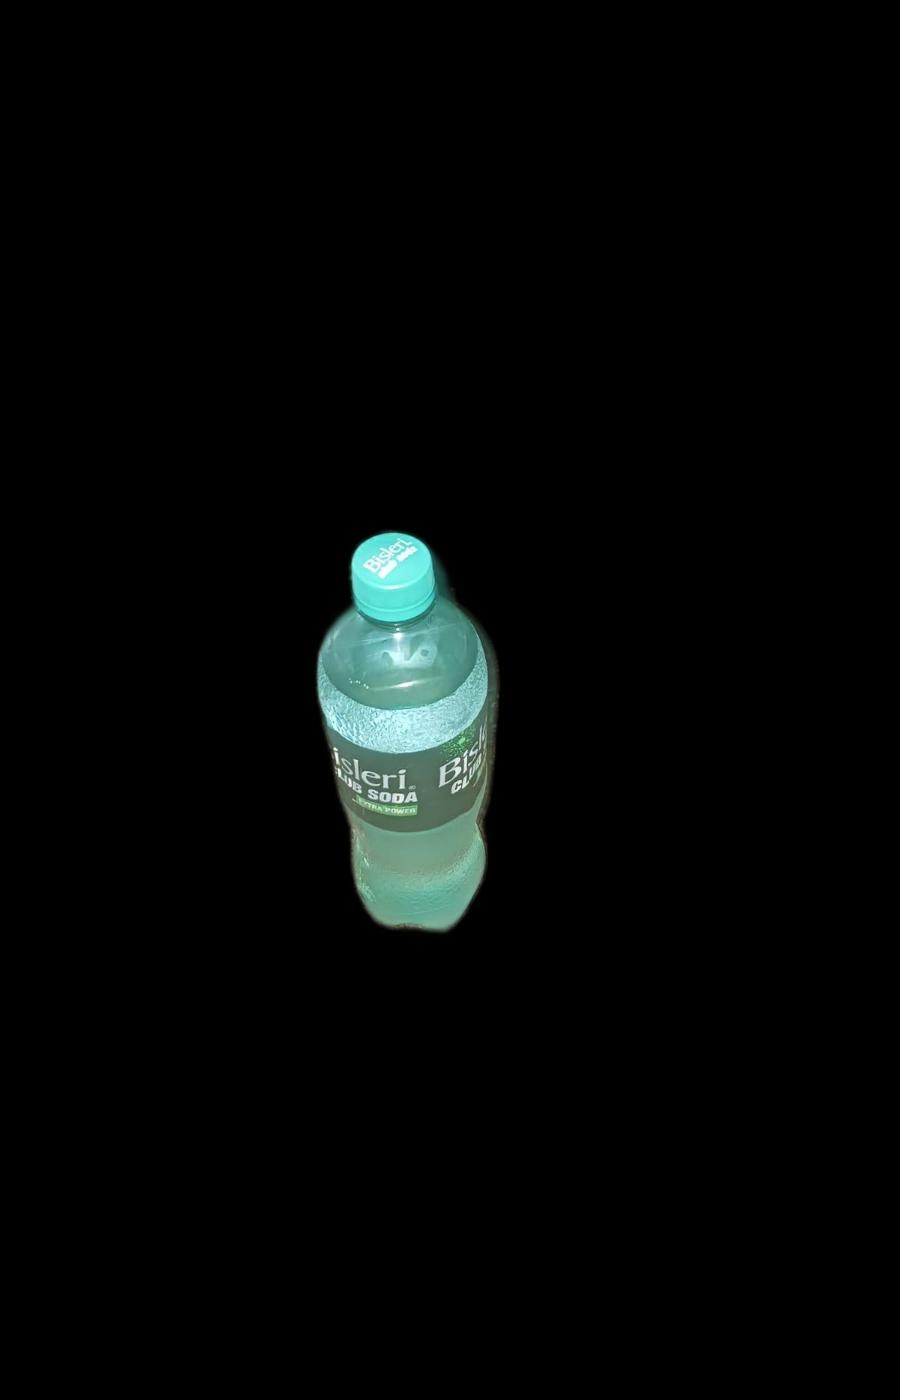Bisleri Club Soda - 750 ml: (304, 528, 518, 941)
